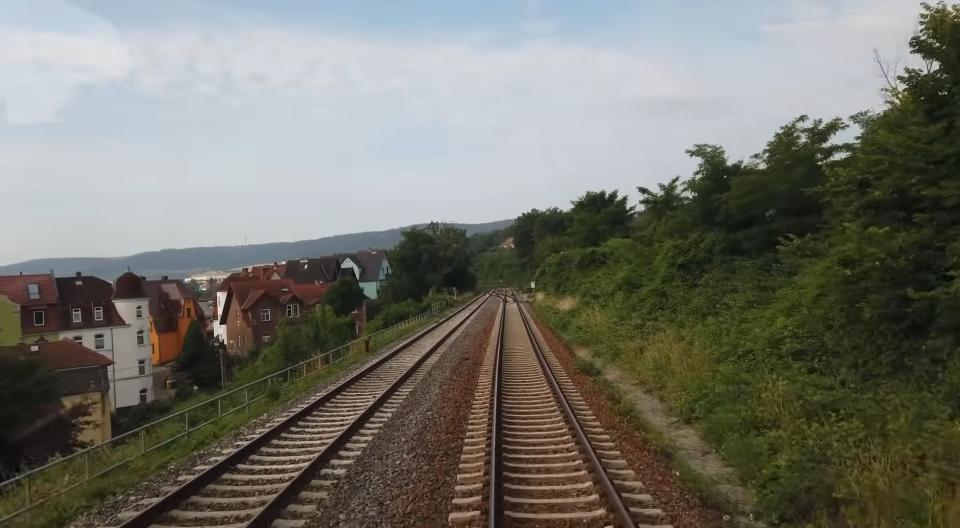Plant: (593, 377, 731, 511), (531, 301, 571, 344), (576, 357, 602, 376)
